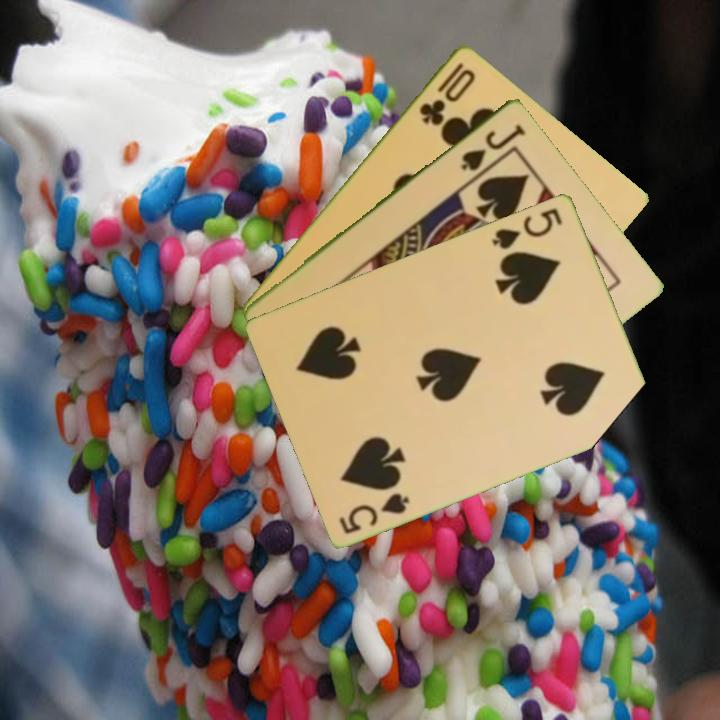10c: (415, 58, 479, 128)
5s: (488, 203, 566, 252), (335, 488, 413, 537)
Js: (457, 120, 527, 174)
